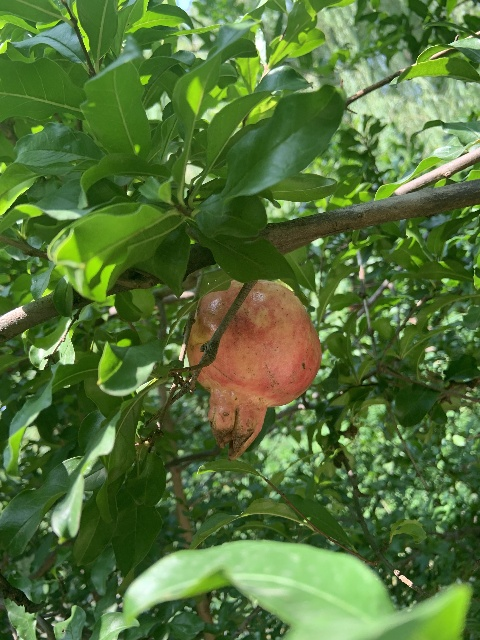ripe: (186, 278, 321, 460)
